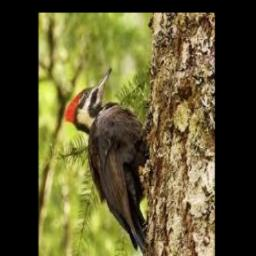Woodpecker: (65, 67, 150, 255)
